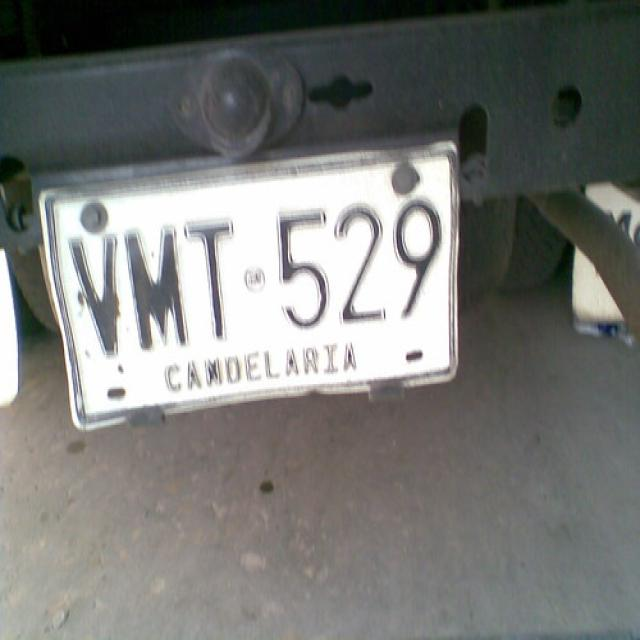placas: (45, 154, 445, 359)
